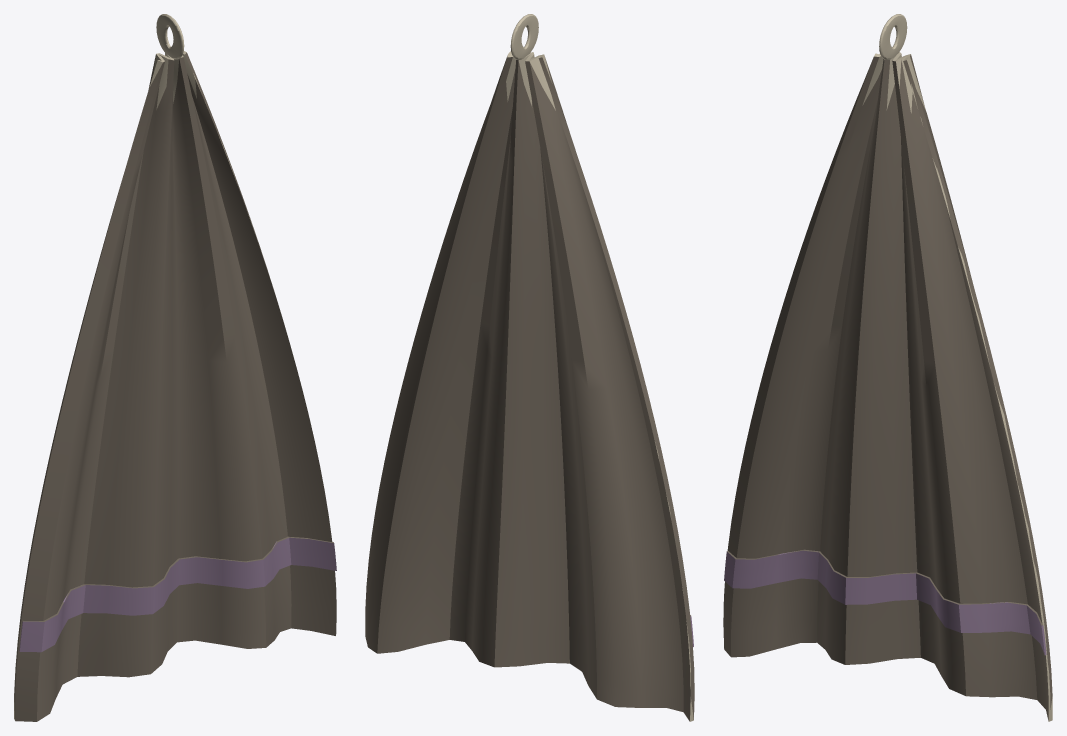
Rendered from towel-on-hook-1f84535ef3fd.glb.
3 views of the same model, side by side, from view 1: azimuth 30°, elevation 25°; view 2: azimuth 150°, elevation 25°; view 3: azimuth 330°, elevation 25° (orthographic).
Parts seen in each view (by area): view 1: cover-cloth, cloth-lilac, cloth-cream; view 2: cover-cloth, cloth-cream; view 3: cover-cloth, cloth-lilac, cloth-cream.
Boxes of the visible parts, x1=… form: cover-cloth: x1=14, y1=52, x2=336, y2=721; cloth-lilac: x1=19, y1=537, x2=336, y2=652; cloth-cream: x1=14, y1=14, x2=269, y2=720; cover-cloth: x1=365, y1=56, x2=694, y2=721; cloth-cream: x1=506, y1=14, x2=693, y2=721; cover-cloth: x1=723, y1=54, x2=1052, y2=720; cloth-lilac: x1=724, y1=550, x2=1046, y2=654; cloth-cream: x1=862, y1=14, x2=1052, y2=721.
Bounding box in the file's own units: 0.3068 × 0.6 × 0.0478.
